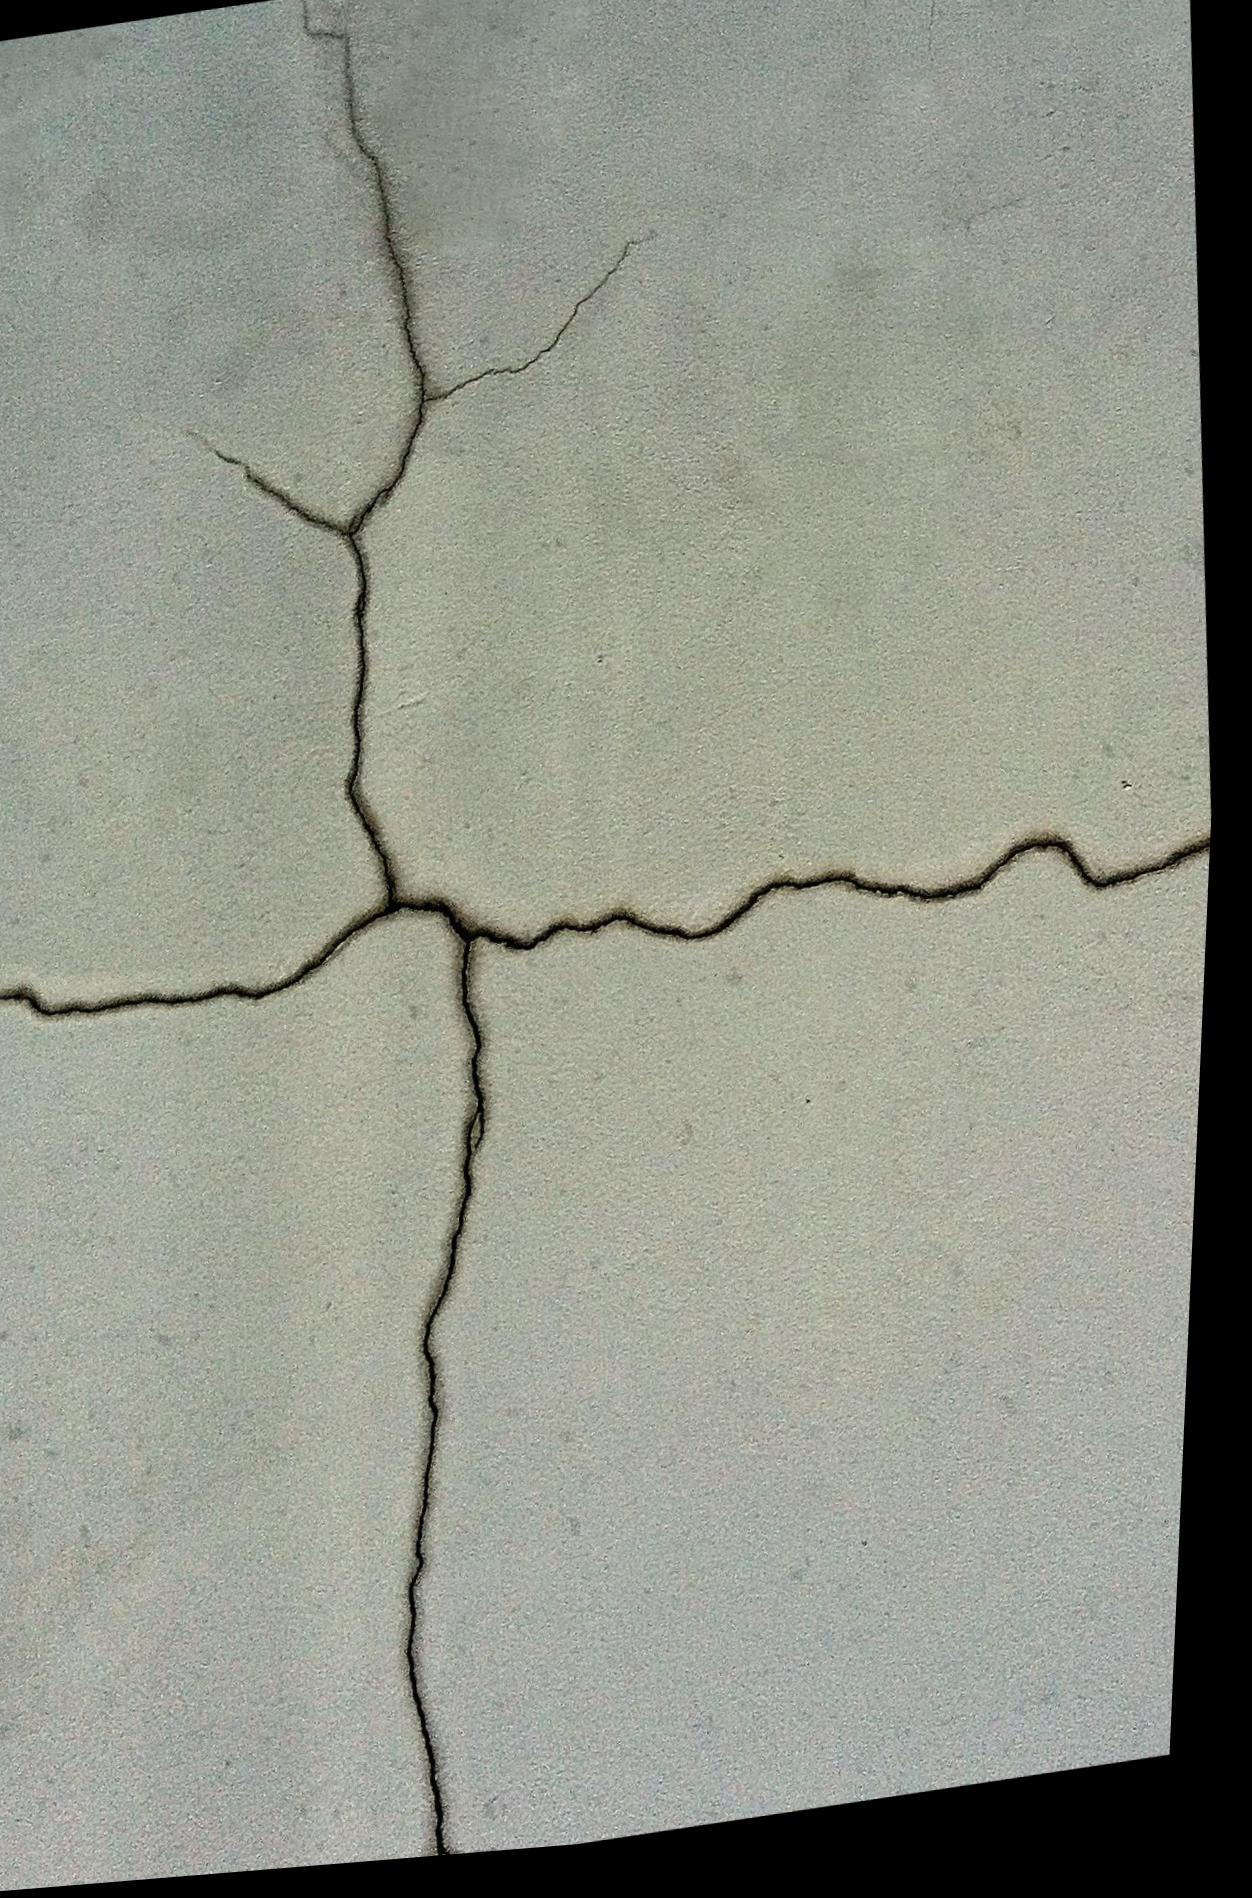crack: (0, 105, 1218, 1864)
